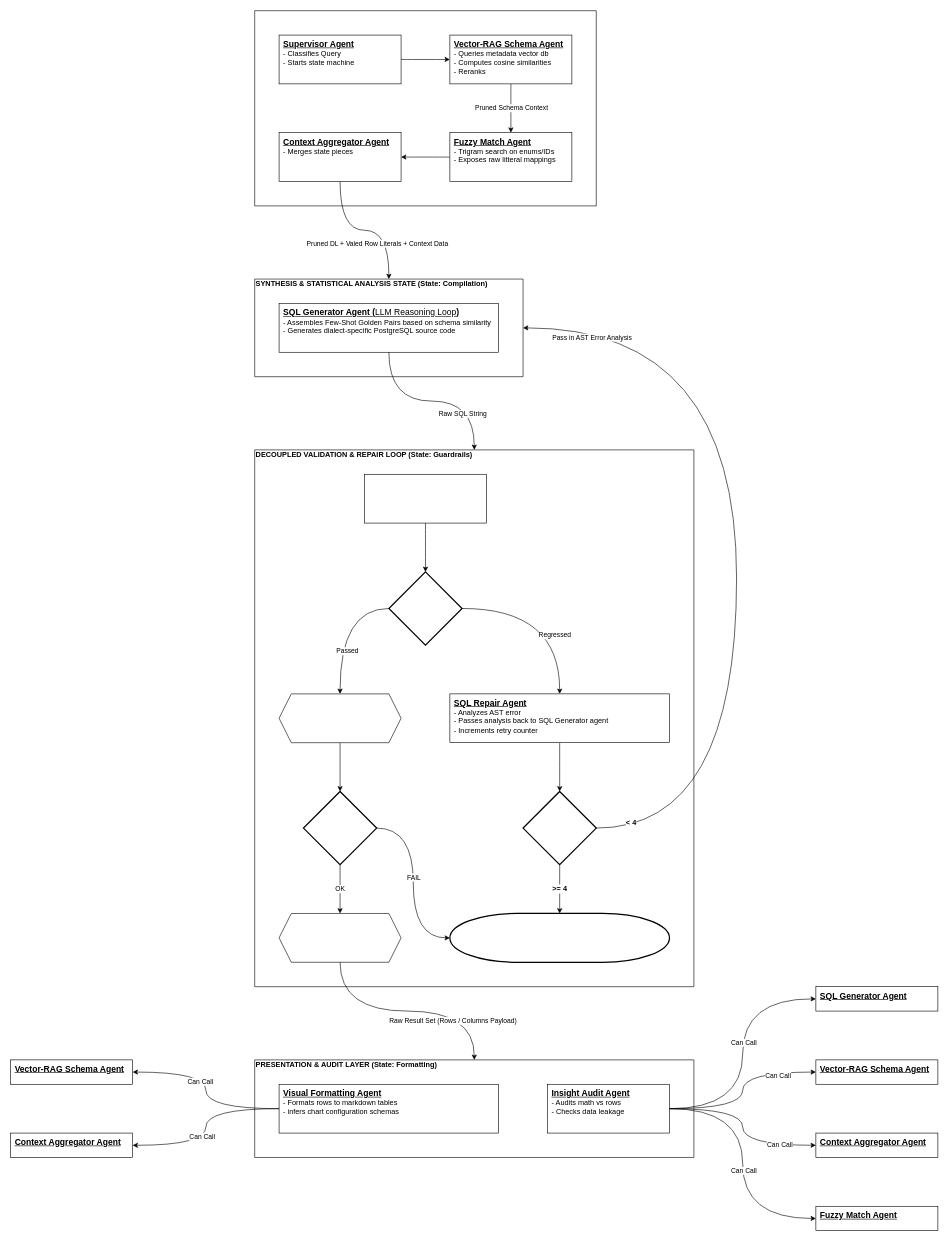
The diagram is 949 pixels wide and 1241 high, and some of its shapes have lost their labels. The centre of each missing label's shape, as x and y in pixels:
Database Engine Pass - EXPLAIN / ANALYZE run - Costs / Timeout check: (x=339, y=718)
Execute: (x=339, y=937)
INTAKE & DATA MAPPING STAGE (State: Context Gathering): (x=425, y=108)
OK or FAIL: (x=340, y=828)
Passed or Regressed: (x=425, y=608)
Retry Counter < 4: (x=559, y=828)
Send Error Stack: (x=559, y=938)
SQL Query Validator Agent - Non-executing AST Parser - Regex Matcher (no write): (x=425, y=498)
